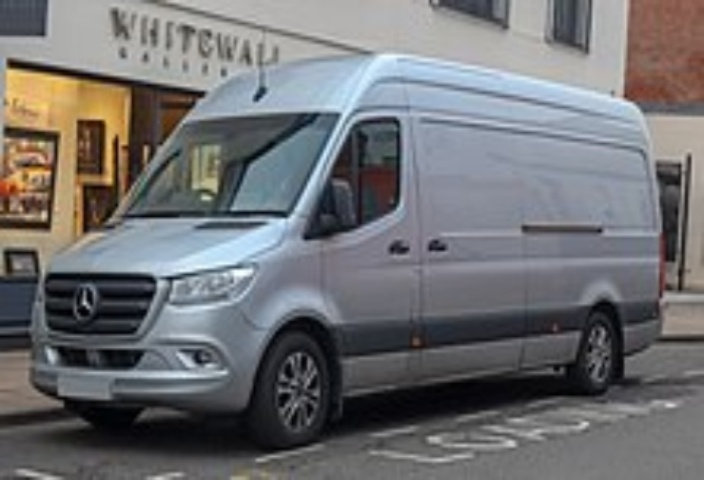van: (52, 49, 671, 439)
